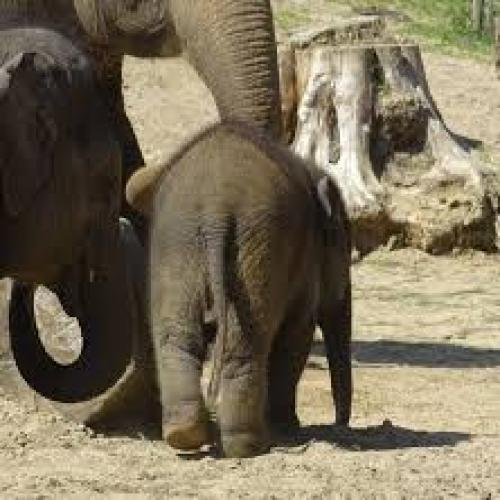asian_elephant-endangered: (147, 122, 355, 452), (0, 26, 137, 403), (0, 0, 287, 137)
